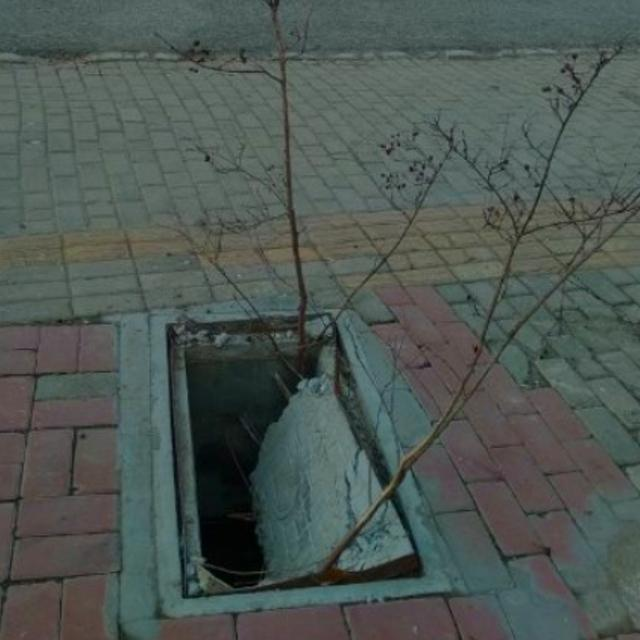broke: (146, 309, 457, 619)
